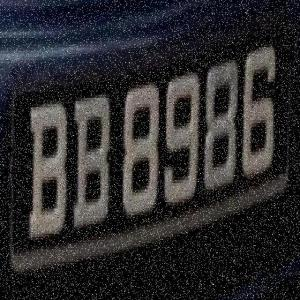Plate: (3, 0, 296, 294)
